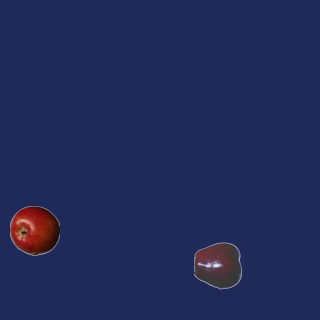Apple Braeburn: (9, 205, 59, 255)
Apple Red Delicious: (193, 240, 243, 290)
